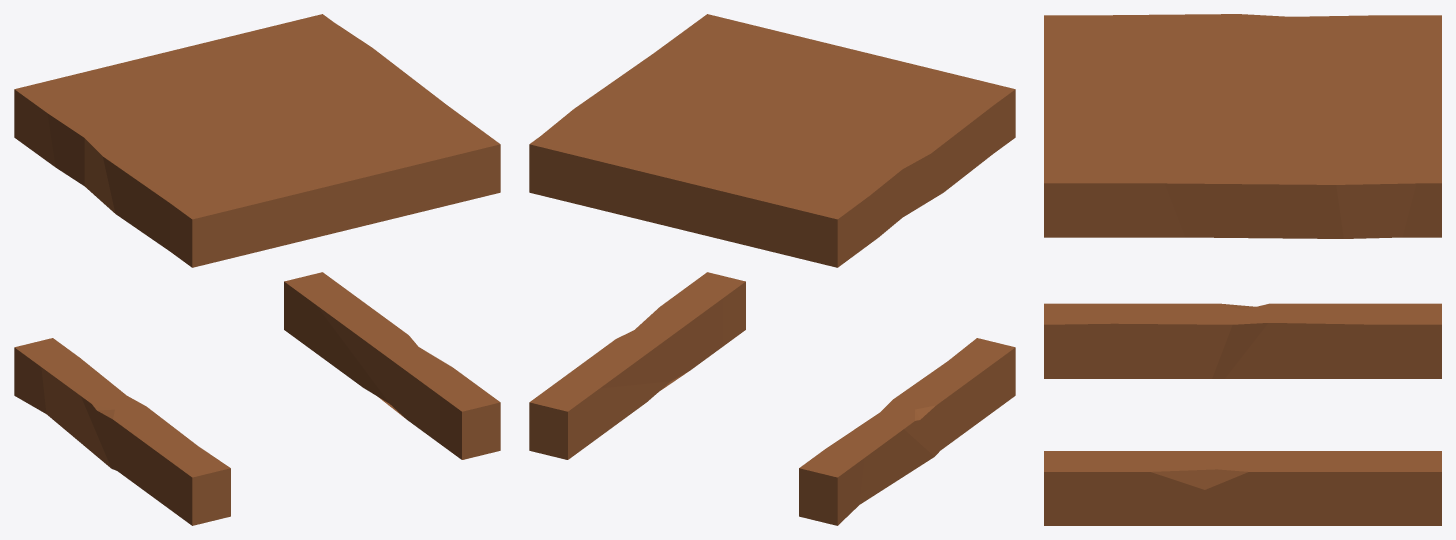
The model's file is Workshop_Counter_Single_Connector.fbx.
3 views of the same model, side by side, from view 1: azimuth 30°, elevation 25°; view 2: azimuth 150°, elevation 25°; view 3: azimuth 270°, elevation 25° (orthographic). The views are drawn at different scales.
Visible parts, largest first — view 1: Cube; view 2: Cube; view 3: Cube.
Part boxes in pixels (box(x1,y1,x2,y2)): Cube: box(14, 14, 500, 525); Cube: box(529, 14, 1015, 525); Cube: box(1044, 14, 1441, 525).
Bounding box in the file's own units: 203 × 191 × 200.
